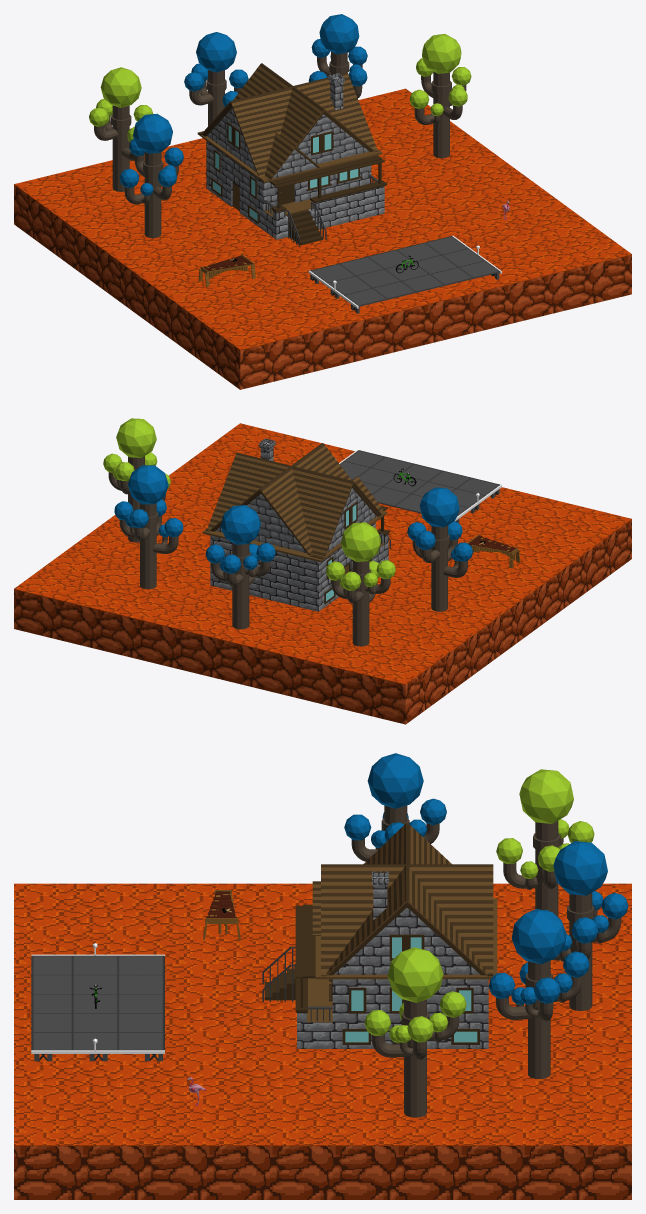
The picture shows the model from 3 angles, top to bottom: view 1: azimuth 30°, elevation 25°; view 2: azimuth 150°, elevation 25°; view 3: azimuth 270°, elevation 25°; orthographic projection. The views are drawn at different scales.
Visible parts, largest first — view 1: Cube.001, Cube.586, OBJRANDOM_MARIMBA; view 2: Cube.001, Cube.586, OBJRANDOM_MARIMBA; view 3: Cube.001, Cube.586, OBJRANDOM_MARIMBA.
Boxes of the visible parts, <box> form: Cube.001: <box>14,14,631,389</box>; Cube.586: <box>197,63,387,246</box>; OBJRANDOM_MARIMBA: <box>198,254,255,286</box>; Cube.001: <box>14,418,631,724</box>; Cube.586: <box>202,438,390,611</box>; OBJRANDOM_MARIMBA: <box>467,534,520,568</box>; Cube.001: <box>14,753,631,1199</box>; Cube.586: <box>262,823,497,1048</box>; OBJRANDOM_MARIMBA: <box>203,890,240,940</box>.
Bounding box in the file's own units: 4000 × 1672 × 4000.
31 materials, 5 textured.
